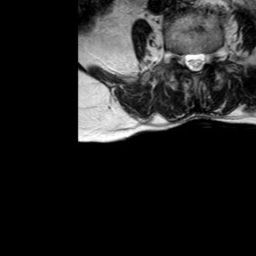CCS_normal: (191, 43, 198, 79)
LFS_normal: (207, 41, 215, 70)
LLS_normal: (198, 43, 207, 75)
RFS_normal: (175, 44, 183, 71)
RLS_normal: (183, 44, 191, 75)
